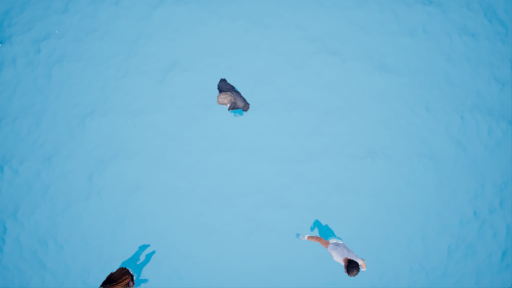person: (299, 217, 367, 279), (207, 70, 262, 130), (104, 238, 156, 288)
